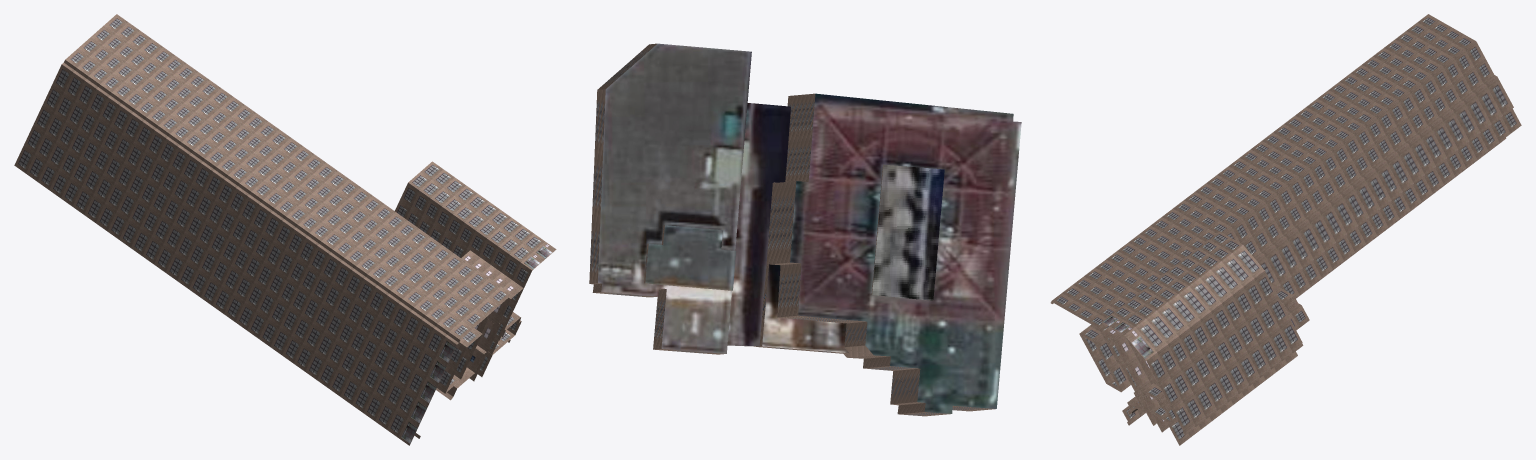
3 renders of one model, left to right at view 1: azimuth 30°, elevation 25°; view 2: azimuth 150°, elevation 25°; view 3: azimuth 270°, elevation 25°, orthographic. The views are drawn at different scales.
Bounding box in the file's own units: 101 × 83.76 × 112.
21 materials, 21 textured.
